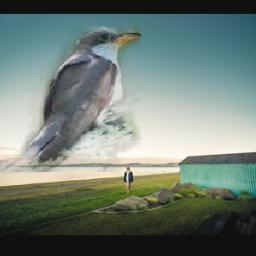Cuckoo: (0, 27, 141, 173)
